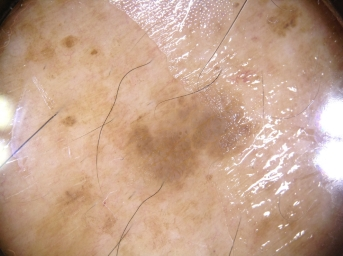seborrheic keratosis: (98, 59, 266, 192)
